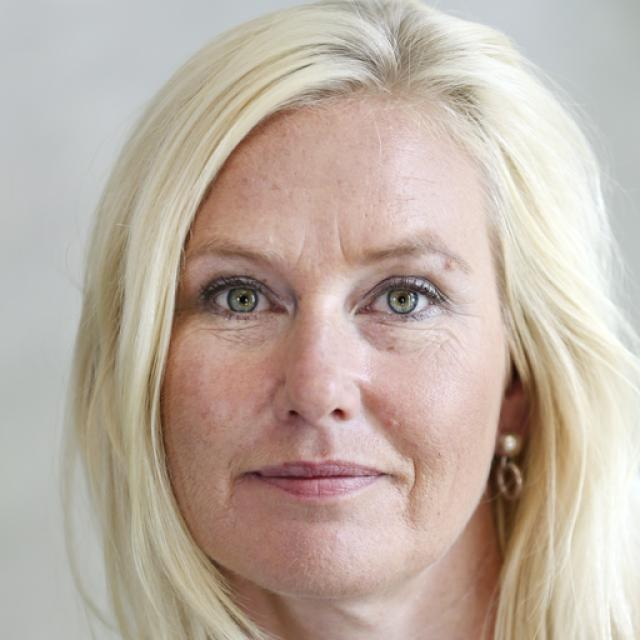Acne: (379, 412, 406, 432)
Wrinkle: (404, 454, 422, 500)
